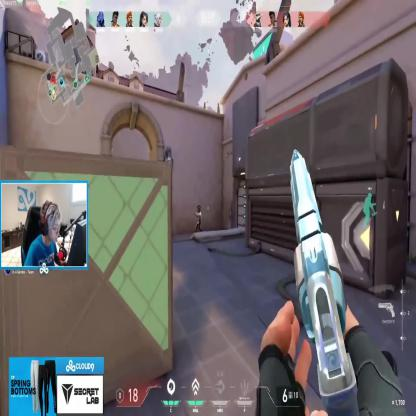enemy: (193, 205, 203, 234)
enemy_head: (198, 206, 200, 213)
